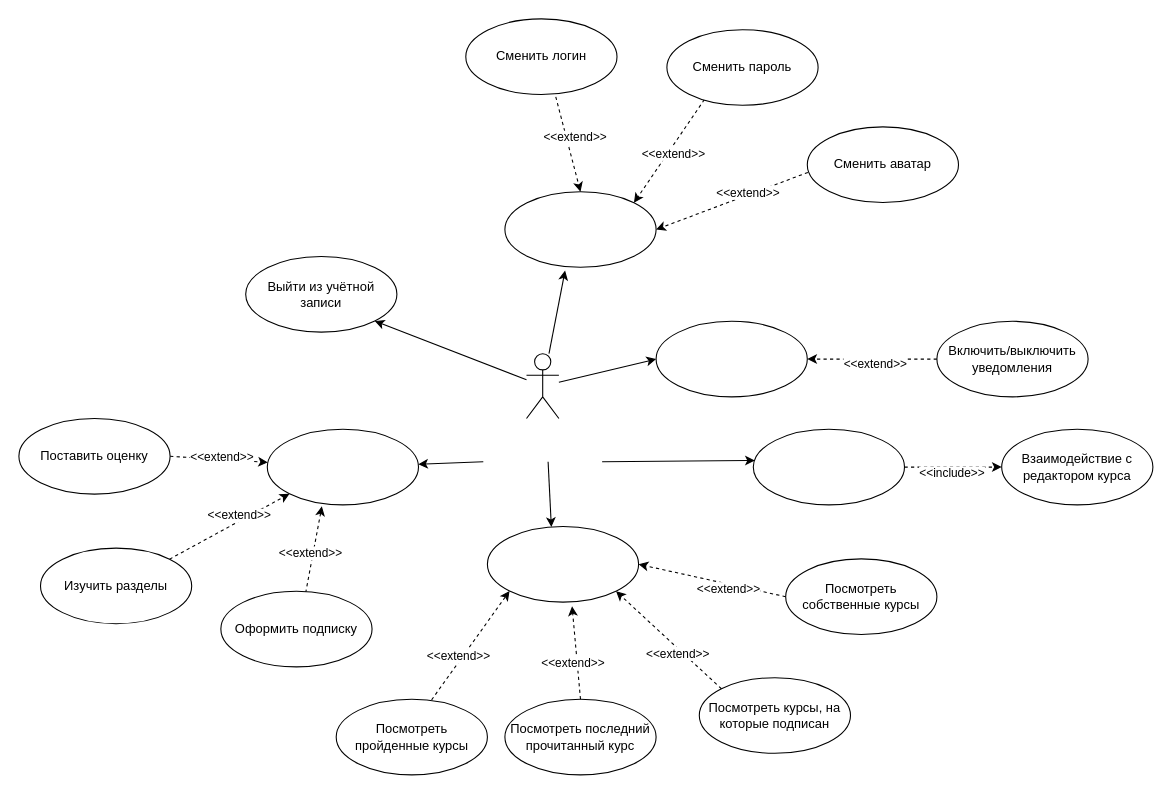
The diagram is 1172 pixels wide and 794 high, and some of its shapes have lost their labels. Each missing label, with the centre of its shape:
"Авторизированный пользователь" goes at (x=542, y=385).
"Настроить приложение" goes at (x=731, y=358).
"Посмотреть информацию о курсе" goes at (x=342, y=466).
"Посмотреть список курсов" goes at (x=562, y=563).
"Редактировать аккаунт" goes at (x=580, y=229).
"Создать курс" goes at (x=828, y=466).
